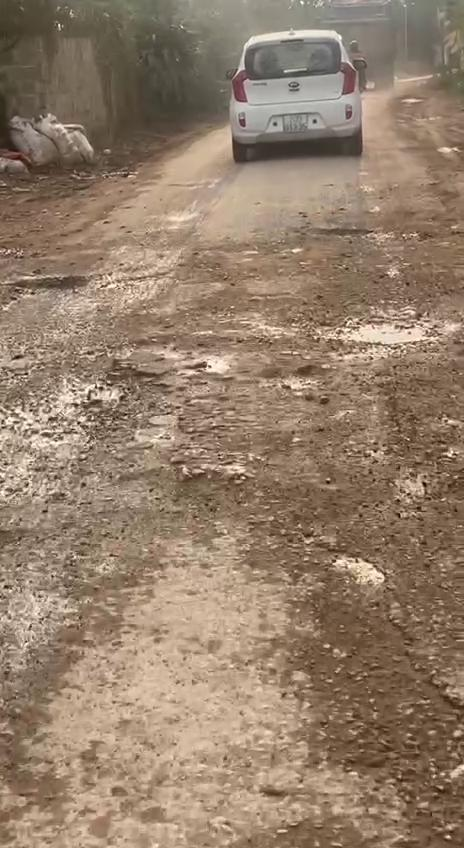pothole: (0, 346, 217, 515), (313, 306, 464, 350)
